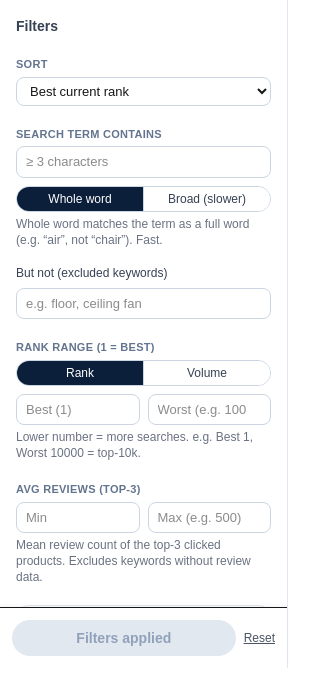
FilterSidebar sort hint (sorts that hide rows without a sort key) › follows the pending sort before Apply, including the volume-movement sorts
Select "Cheapest avg price (top-3)" in the dropdown showing "Best current rank". click: (144, 91)
box: x1=16 y1=76 x2=271 y2=106
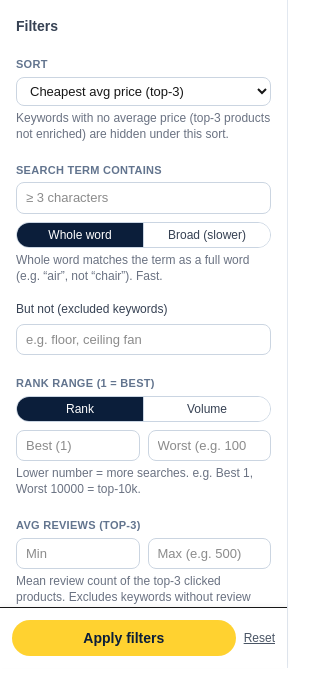
Select "Biggest improvement (search volume)" in the dropdown showing "Best current rank". click: (144, 91)
box: x1=16 y1=76 x2=271 y2=106
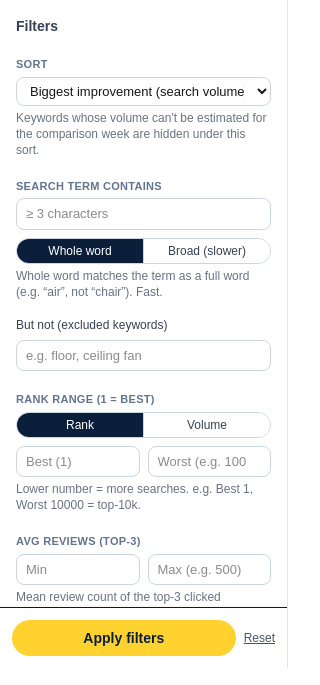
Select "Worst current rank" in the dropdown showing "Best current rank". click: (144, 91)
box: x1=16 y1=76 x2=271 y2=106
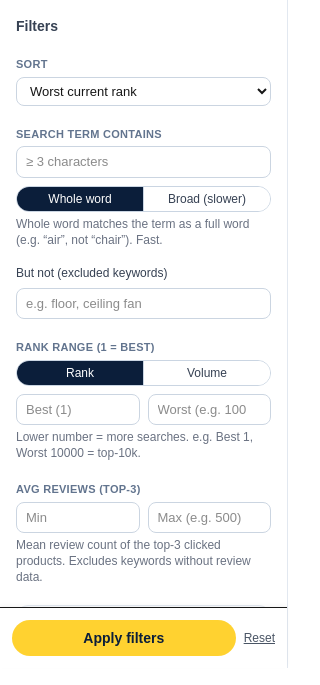
Check: the text "hidden under this sort" is gone
